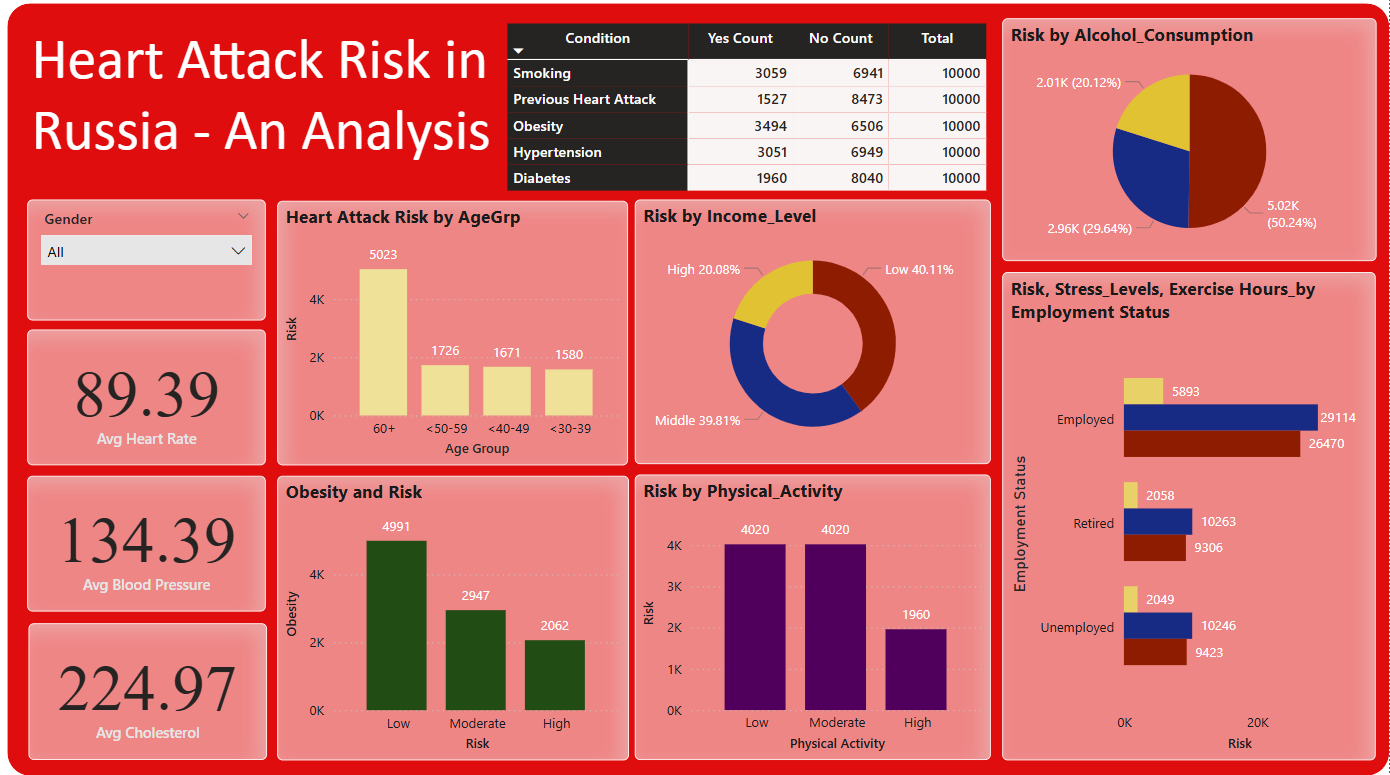

What the dashboard file says about the page in this screenshot:
{"tool":"powerbi","page":{"name":"Page 1","canvas":[1280,720],"ordinal":0},"visuals":[{"type":"shape","box":[10,10,1270,710],"z":0},{"type":"card","fields":{"Values":["Avg(heart_attack_russia.Heart_Rate)"]},"box":[28.8,310.4,219.3,124.6],"z":1000},{"type":"card","fields":{"Values":["Avg(heart_attack_russia.Cholesterol)"]},"box":[30,580.1,219.3,125.8],"z":2000},{"type":"card","fields":{"Values":["Avg(heart_attack_russia.Blood_Pressure)"]},"box":[28.8,444.6,219.3,124.6],"z":3000},{"type":"slicer","fields":{"Values":["heart_attack_russia.Gender"]},"box":[28.8,190.6,219.3,111.5],"z":4000},{"type":"pivotTable","fields":{"Rows":["ConditionSummary.Condition"],"Values":["Sum(ConditionSummary.Yes Count)","Sum(ConditionSummary.No Count)","Sum(ConditionSummary.Total)"]},"box":[465.7,24.3,450,167.1],"z":5000},{"type":"donutChart","title":"Risk by Income_Level","fields":{"Category":["heart_attack_russia.Income_Level"],"Y":["CountNonNull(heart_attack_russia.Heart_Attack_Risk)"]},"box":[587.3,190.6,327.2,243.3],"z":6000},{"type":"clusteredColumnChart","title":"Obesity and Risk","fields":{"Category":["heart_attack_russia.Heart_Attack_Risk"],"Y":["CountNonNull(heart_attack_russia.Obesity)"]},"box":[258.6,444.3,322.9,261.4],"z":7000},{"type":"pieChart","title":"Risk by Alcohol_Consumption","fields":{"Category":["heart_attack_russia.Alcohol_Consumption"],"Y":["CountNonNull(heart_attack_russia.Heart_Attack_Risk)"]},"box":[924.3,24.3,344.3,222.9],"z":8000},{"type":"clusteredColumnChart","title":"Risk by Physical_Activity","fields":{"Category":["heart_attack_russia.Physical_Activity"],"Y":["CountNonNull(heart_attack_russia.Heart_Attack_Risk)"]},"box":[587.3,443.4,327.2,262.5],"z":9000},{"type":"clusteredColumnChart","title":"Heart Attack Risk by AgeGrp","fields":{"Y":["CountNonNull(heart_attack_russia.Heart_Attack_Risk)"],"Category":["heart_attack_russia.AgeGrp"]},"box":[258.9,191.8,322.4,243.3],"z":10000},{"type":"clusteredBarChart","title":"Risk, Stress_Levels,  Exercise Hours_by Employment Status","fields":{"Y":["CountNonNull(heart_attack_russia.Heart_Attack_Risk)","Sum(heart_attack_russia.Stress_Levels)","Sum(heart_attack_russia.Exercise_Hours_Per_Week)"],"Category":["heart_attack_russia.Employment_Status"]},"box":[924.3,257.1,342.9,448.6],"z":11000},{"type":"textbox","box":[27.1,24.3,447.1,141.4],"z":12000}]}

Visuals, with their boxes in screenshot pixels (x1, y1, x2, y2), scaled from the page's 1280x720 canvas onto the 1390x775 screenshot:
shape: x1=11, y1=11, x2=1389, y2=774
card - Avg(heart_attack_russia.Heart_Rate): x1=31, y1=334, x2=269, y2=468
card - Avg(heart_attack_russia.Cholesterol): x1=33, y1=624, x2=271, y2=760
card - Avg(heart_attack_russia.Blood_Pressure): x1=31, y1=479, x2=269, y2=613
slicer - heart_attack_russia.Gender: x1=31, y1=205, x2=269, y2=325
pivotTable - ConditionSummary.Condition x Sum(ConditionSummary.Yes Count): x1=506, y1=26, x2=994, y2=206
"Risk by Income_Level" donutChart: x1=638, y1=205, x2=993, y2=467
"Obesity and Risk" clusteredColumnChart: x1=281, y1=478, x2=631, y2=760
"Risk by Alcohol_Consumption" pieChart: x1=1004, y1=26, x2=1378, y2=266
"Risk by Physical_Activity" clusteredColumnChart: x1=638, y1=477, x2=993, y2=760
"Heart Attack Risk by AgeGrp" clusteredColumnChart: x1=281, y1=206, x2=631, y2=468
"Risk, Stress_Levels,  Exercise Hours_by Employment Status" clusteredBarChart: x1=1004, y1=277, x2=1376, y2=760
textbox: x1=29, y1=26, x2=515, y2=178
